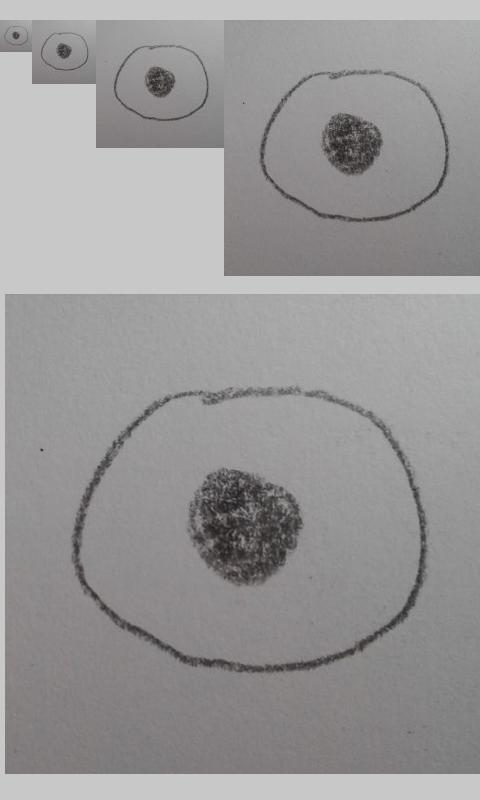radio_button: (68, 381, 430, 676), (257, 67, 451, 225), (113, 43, 209, 122), (40, 31, 90, 71), (3, 25, 29, 46)
